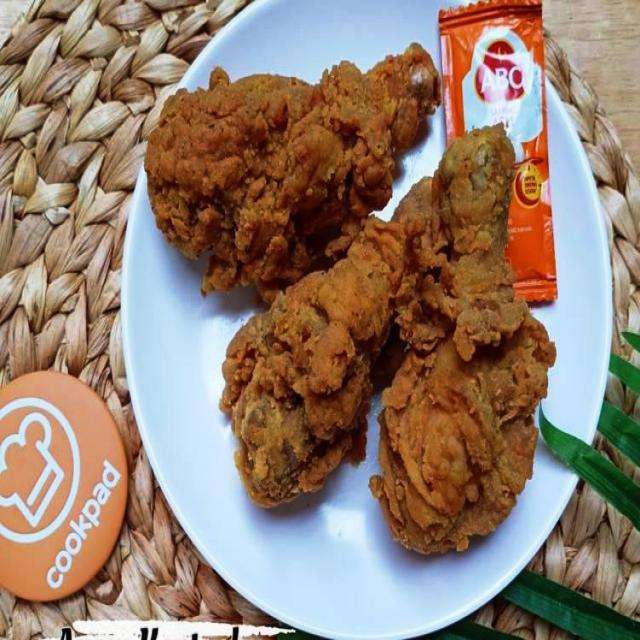fried_chicken: (374, 123, 543, 557), (222, 173, 436, 505), (147, 41, 443, 273)
